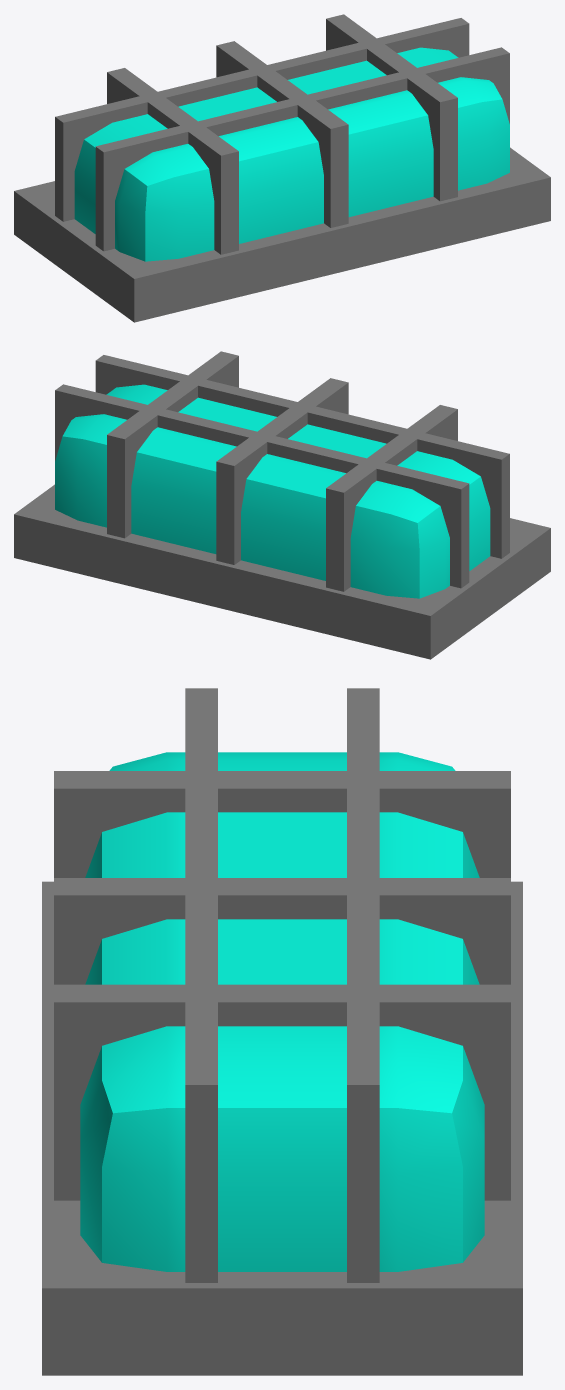
File: light.fbx
3 renders of one model, top to bottom at view 1: azimuth 30°, elevation 25°; view 2: azimuth 150°, elevation 25°; view 3: azimuth 270°, elevation 25°, orthographic. The views are drawn at different scales.
Parts seen in each view (by area): view 1: Box002, Object001; view 2: Box002, Object001; view 3: Box002, Object001.
Part boxes in pixels (x1=…): Box002: x1=14, y1=14, x2=550, y2=322; Object001: x1=74, y1=47, x2=509, y2=261; Box002: x1=14, y1=351, x2=550, y2=659; Object001: x1=55, y1=384, x2=490, y2=598; Box002: x1=42, y1=688, x2=522, y2=1375; Object001: x1=80, y1=752, x2=484, y2=1271.
Bounding box in the file's own units: 1.56 × 0.5091 × 0.7776.
